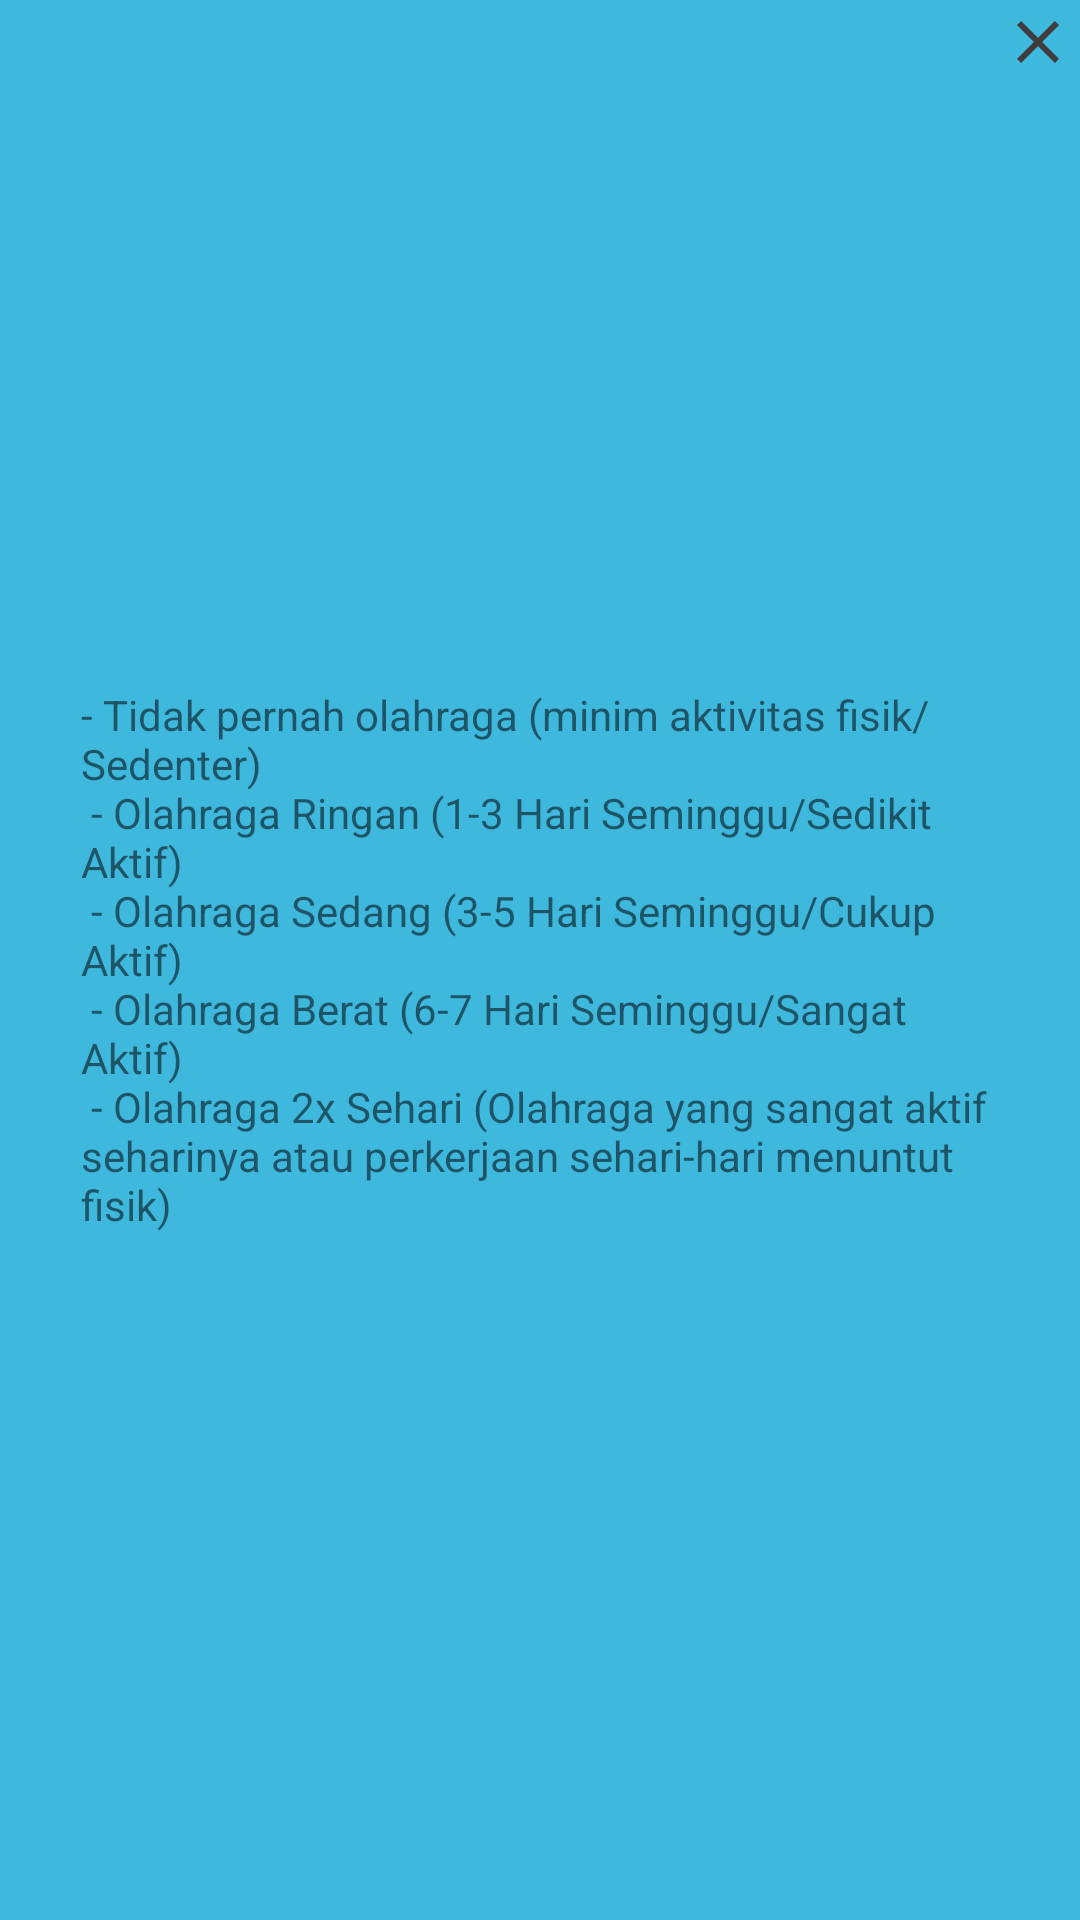

Icon bounding boxes for this 1080w x 1920h phone screenshot, format (x1,y1,x2,y2):
close: (1017,21,1059,63)
